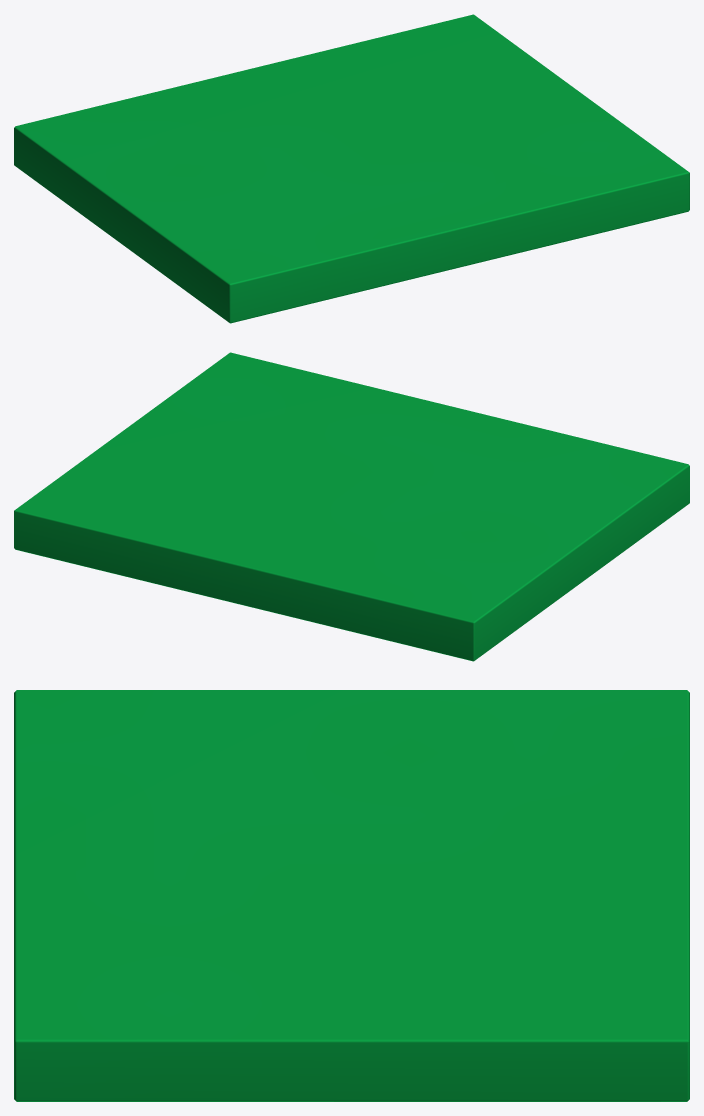
File: Town_4_Base_1.glb
The picture shows the model from 3 angles, top to bottom: view 1: azimuth 30°, elevation 25°; view 2: azimuth 150°, elevation 25°; view 3: azimuth 270°, elevation 25°; orthographic projection. The views are drawn at different scales.
Visible parts, largest first — view 1: Town_4_Base_1; view 2: Town_4_Base_1; view 3: Town_4_Base_1.
Part boxes in pixels (left/top/right/bottom): Town_4_Base_1: left=14, top=14, right=689, bottom=323; Town_4_Base_1: left=14, top=352, right=689, bottom=661; Town_4_Base_1: left=14, top=690, right=689, bottom=1101.
Bounding box in the file's own units: 13.78 × 1.15 × 11.2.
1 material, 1 textured.
